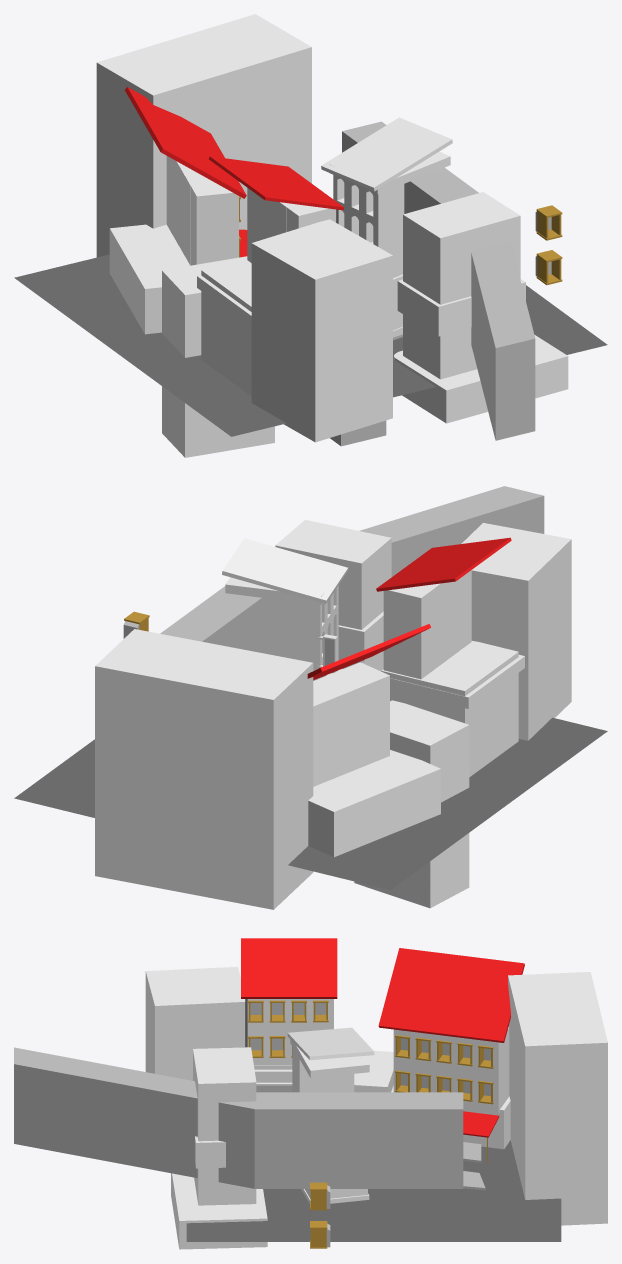
Rendered from street.obj.
3 renders of one model, top to bottom at view 1: azimuth 30°, elevation 25°; view 2: azimuth 150°, elevation 25°; view 3: azimuth 270°, elevation 25°, orthographic. The views are drawn at different scales.
Visible parts, largest first — view 1: Cube.003, Cube.010, Plane, Cube.035_Cube.045, Cube.042_Cube.052, Cube.009, Cube.033_Cube.042, Cube.004_Cube.020, Cube.022_Cube.023, Cube.038_Cube.048, Cube.011, Cube.002 (+8 smaller); view 2: Cube.003, Plane, Cube.010, Cube.035_Cube.045, Cube.004_Cube.020, Cube.009, Cube.033_Cube.042, Cube.022_Cube.023, Cube.029_Cube.034, Cube.042_Cube.052, Cube.038_Cube.048, Cube.030_Cube.038 (+5 smaller); view 3: Cube.035_Cube.045, Cube.003, Plane, Cube.002, Cube.010, Cube.033_Cube.042, Cube.030_Cube.038, Cube.042_Cube.052, Cube.029_Cube.034, Cube.011, Cube.038_Cube.048, Cube (+7 smaller).
Part boxes in pixels (left/top/right/bottom): Cube.003: left=96, top=14, right=311, bottom=257; Cube.010: left=251, top=219, right=392, bottom=442; Plane: left=14, top=254, right=607, bottom=436; Cube.035_Cube.045: left=342, top=121, right=535, bottom=440; Cube.042_Cube.052: left=403, top=192, right=520, bottom=379; Cube.009: left=162, top=256, right=274, bottom=457; Cube.033_Cube.042: left=166, top=156, right=240, bottom=265; Cube.004_Cube.020: left=109, top=224, right=189, bottom=334; Cube.022_Cube.023: left=201, top=259, right=251, bottom=396; Cube.038_Cube.048: left=321, top=117, right=452, bottom=191; Cube.011: left=394, top=335, right=568, bottom=423; Cube.002: left=125, top=87, right=246, bottom=198; Cube.003: left=95, top=629, right=313, bottom=909; Plane: left=14, top=717, right=607, bottom=890; Cube.010: left=461, top=523, right=571, bottom=740; Cube.035_Cube.045: left=160, top=486, right=544, bottom=657; Cube.004_Cube.020: left=308, top=750, right=440, bottom=857; Cube.009: left=354, top=700, right=469, bottom=908; Cube.033_Cube.042: left=313, top=662, right=389, bottom=786; Cube.022_Cube.023: left=381, top=641, right=518, bottom=777; Cube.029_Cube.034: left=383, top=570, right=471, bottom=679; Cube.042_Cube.052: left=275, top=520, right=391, bottom=671; Cube.038_Cube.048: left=222, top=538, right=348, bottom=604; Cube.030_Cube.038: left=376, top=537, right=511, bottom=591; Cube.035_Cube.045: left=14, top=1047, right=463, bottom=1188; Cube.003: left=508, top=972, right=607, bottom=1225; Plane: left=186, top=1140, right=561, bottom=1241; Cube.002: left=378, top=948, right=524, bottom=1042; Cube.010: left=145, top=966, right=245, bottom=1080; Cube.033_Cube.042: left=393, top=1027, right=509, bottom=1113; Cube.030_Cube.038: left=241, top=938, right=337, bottom=998; Cube.042_Cube.052: left=193, top=1047, right=256, bottom=1205; Cube.029_Cube.034: left=247, top=999, right=333, bottom=1064; Cube.011: left=171, top=1173, right=267, bottom=1249; Cube.038_Cube.048: left=287, top=1027, right=374, bottom=1060; Cube: left=292, top=1047, right=354, bottom=1092.
Size of the model in its own units: 19.25 by 13.74 by 28.56.
